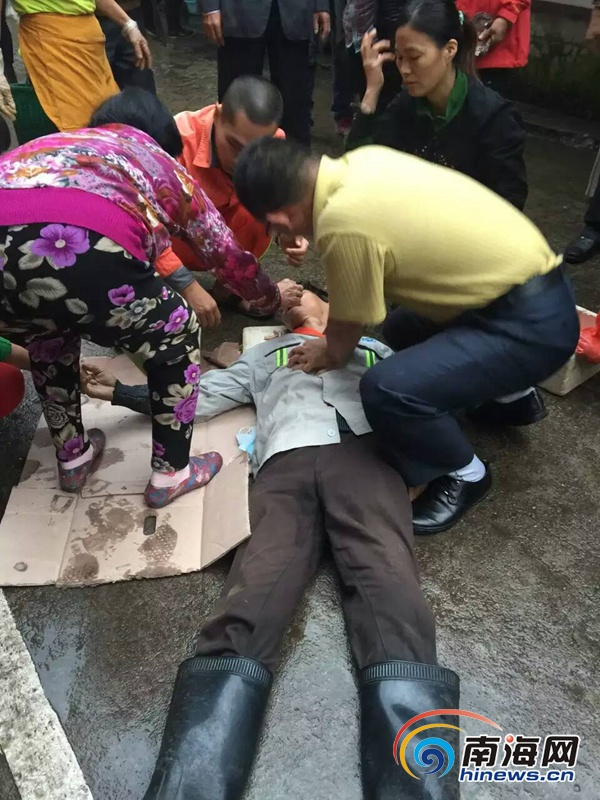falling: (105, 264, 489, 800)
